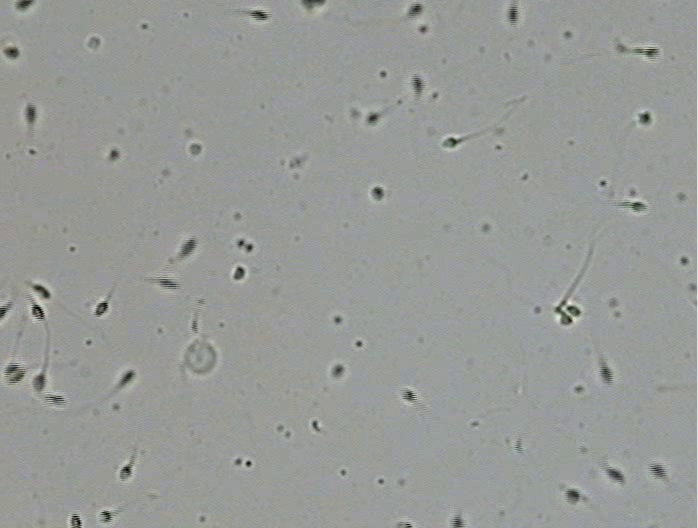Impurity: (184, 340, 217, 373), (87, 36, 100, 49)
S: (3, 362, 26, 385), (178, 238, 197, 258), (605, 466, 625, 484), (648, 462, 667, 479), (157, 276, 179, 290), (44, 394, 67, 407), (24, 103, 37, 125), (31, 284, 50, 299), (599, 365, 613, 385), (412, 73, 425, 94), (120, 370, 135, 387), (31, 303, 45, 321), (301, 1, 326, 11), (506, 6, 519, 25), (250, 9, 269, 21), (565, 489, 580, 504), (94, 301, 108, 317), (32, 374, 46, 390), (3, 47, 20, 60), (119, 465, 132, 481), (643, 47, 660, 59), (14, 1, 34, 11), (371, 186, 384, 201), (407, 4, 422, 17), (630, 201, 647, 212), (450, 515, 464, 528), (638, 111, 651, 125), (566, 305, 581, 317), (188, 143, 202, 155), (233, 266, 245, 280), (98, 511, 112, 523), (71, 513, 82, 528), (443, 137, 458, 148), (366, 113, 379, 125), (402, 389, 416, 400), (332, 364, 344, 376), (560, 314, 573, 325), (109, 149, 120, 161), (1, 305, 9, 321), (398, 521, 412, 528)
